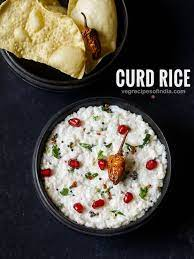curd_rice: (37, 99, 172, 228)
